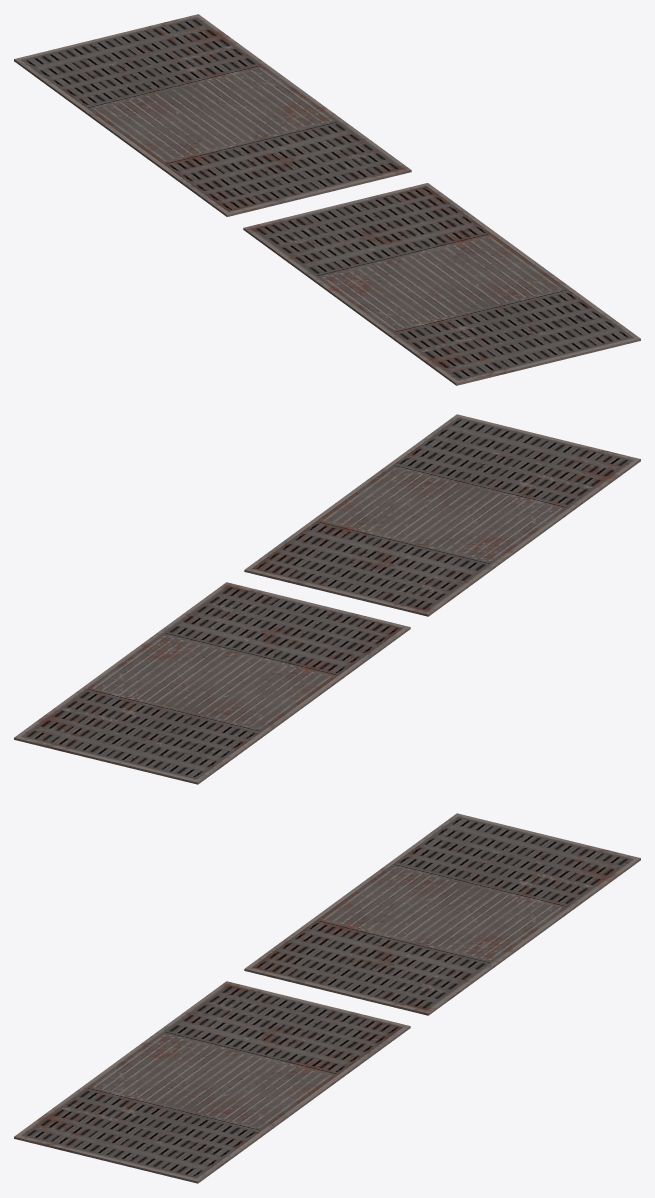
Rendered from HH_Checkpoint_Stormwater.fbx.
The picture shows the model from 3 angles, top to bottom: view 1: azimuth 30°, elevation 25°; view 2: azimuth 150°, elevation 25°; view 3: azimuth 330°, elevation 25°; orthographic projection.
Parts seen in each view (by area): view 1: HH_Checkpoint_Stormwater; view 2: HH_Checkpoint_Stormwater; view 3: HH_Checkpoint_Stormwater.
Boxes of the visible parts, x1,y1,x2,y2 form: HH_Checkpoint_Stormwater: (14,14,640,385); HH_Checkpoint_Stormwater: (14,414,640,784); HH_Checkpoint_Stormwater: (14,813,640,1183).
Size of the model in its own units: 62.55 by 0.6766 by 259.
